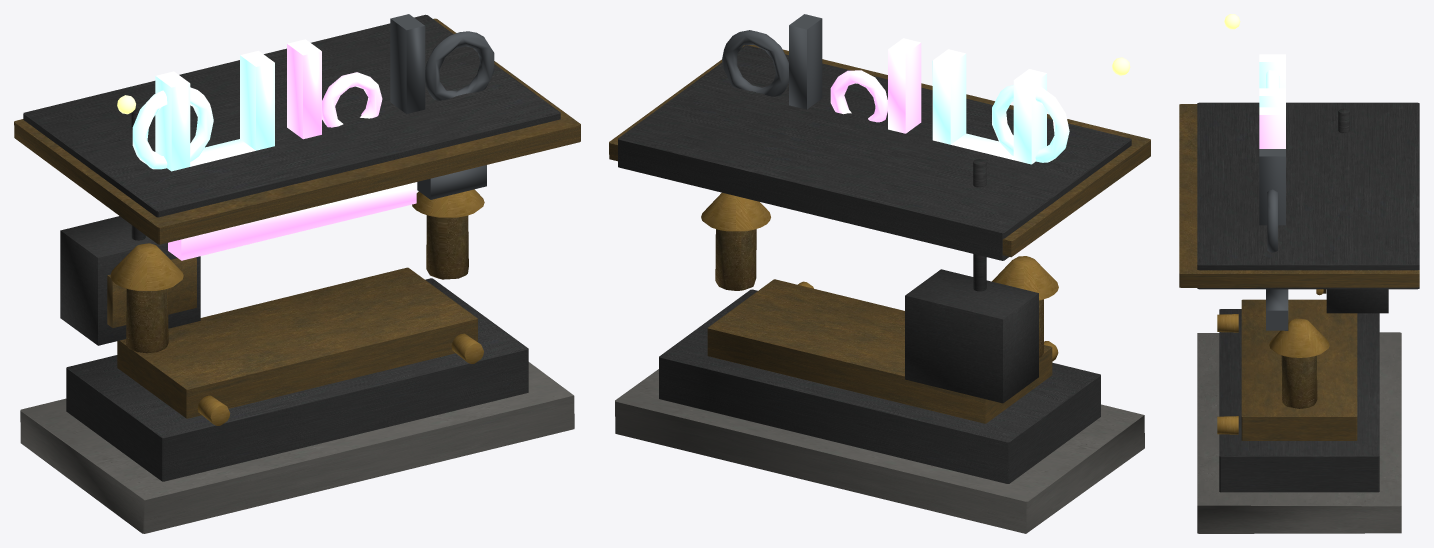
Rendered from hp_room_l06_p02.glb.
3 renders of one model, left to right at view 1: azimuth 30°, elevation 25°; view 2: azimuth 150°, elevation 25°; view 3: azimuth 270°, elevation 25°, orthographic. The views are drawn at different scales.
Visible parts, largest first — view 1: room_l06_p02; view 2: room_l06_p02; view 3: room_l06_p02.
Part boxes in pixels (left/top/right/bottom): room_l06_p02: left=14, top=14, right=580, bottom=533; room_l06_p02: left=609, top=14, right=1150, bottom=533; room_l06_p02: left=1179, top=14, right=1419, bottom=533.
Bounding box in the file's own units: 0.9271 × 0.8577 × 0.537.
9 materials, 5 textured.
